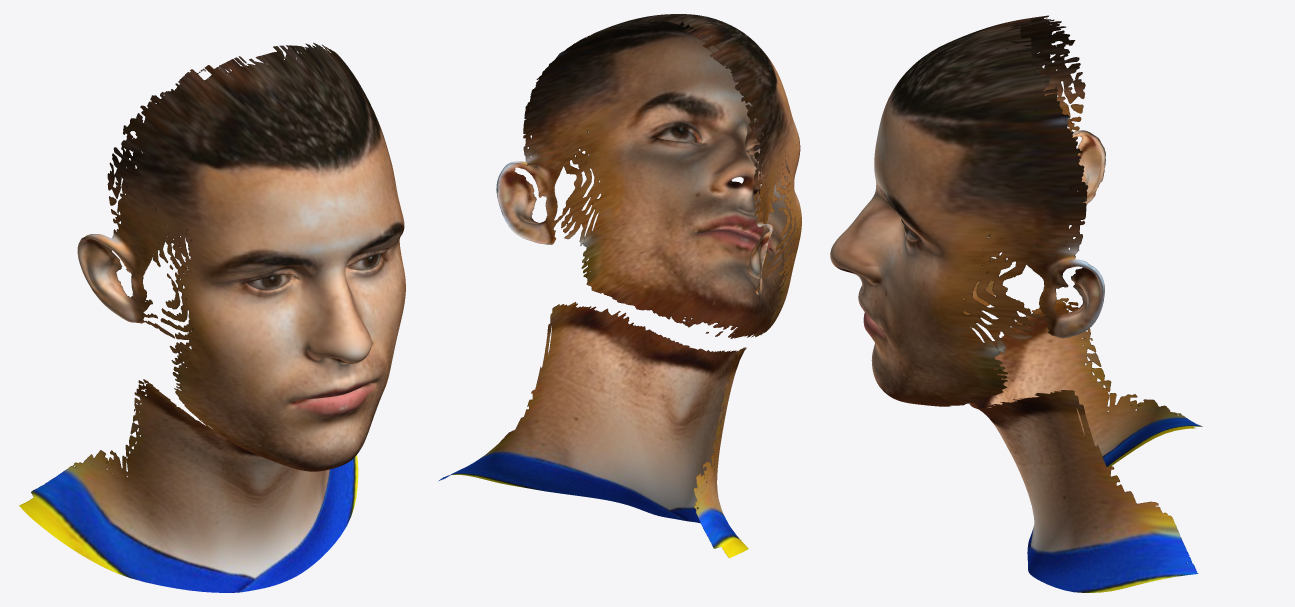
Rendered from ronaldoface.fbx.
The picture shows the model from 3 angles, left to right: view 1: azimuth 30°, elevation 25°; view 2: azimuth 150°, elevation 25°; view 3: azimuth 270°, elevation 25°; orthographic projection. The views are drawn at different scales.
Parts seen in each view (by area): view 1: FBHead; view 2: FBHead; view 3: FBHead.
Boxes of the visible parts, bbox=[...] form: FBHead: bbox=[19, 42, 405, 592]; FBHead: bbox=[439, 14, 801, 558]; FBHead: bbox=[830, 15, 1202, 592].
Size of the model in its own units: 163 by 264 by 203.
1 material, 1 textured.
